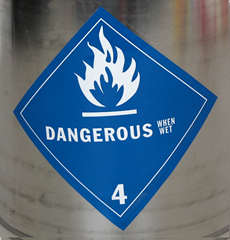DangerousWhenWet: (20, 12, 211, 211)
